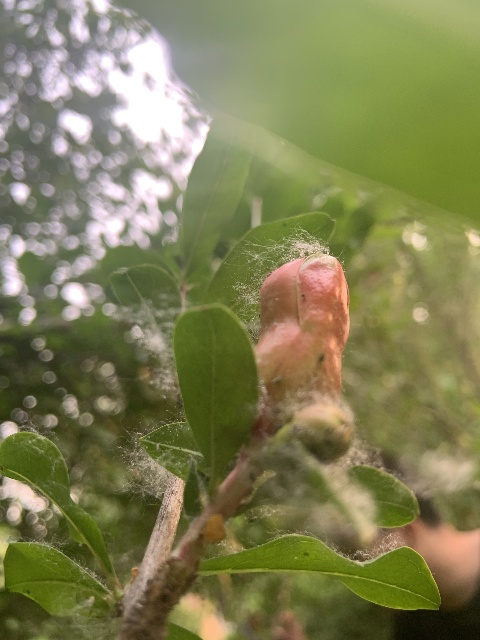bud: (254, 254, 350, 408)
